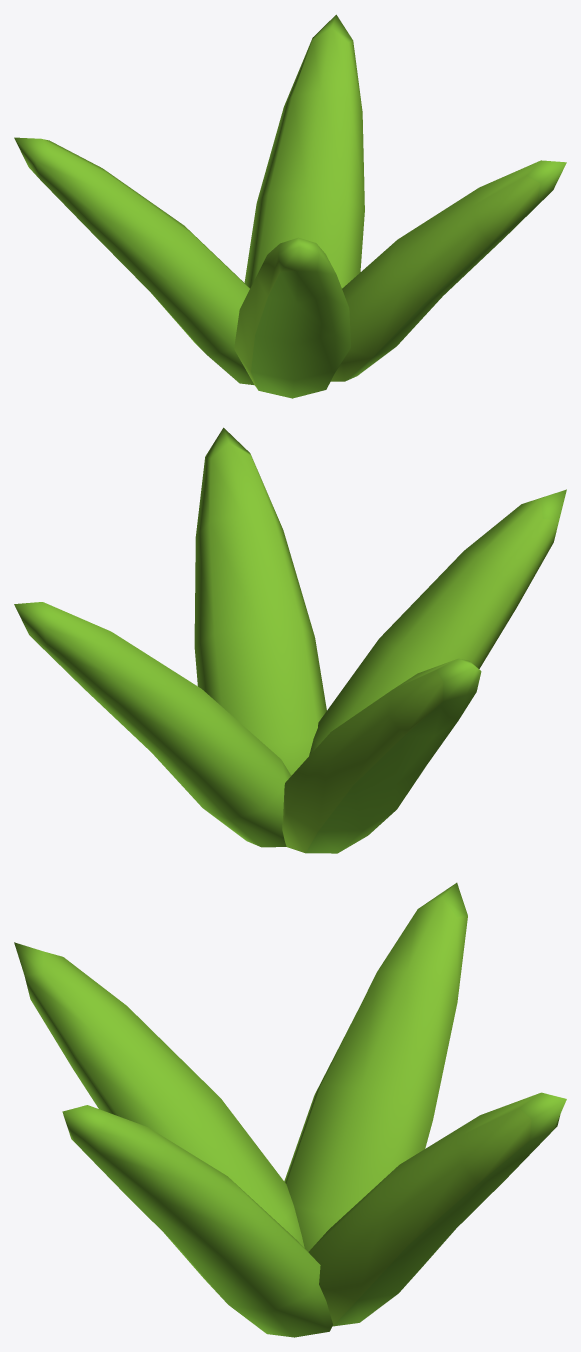
The model's file is Cube_Grass_B.fbx.
The picture shows the model from 3 angles, top to bottom: view 1: azimuth 30°, elevation 25°; view 2: azimuth 150°, elevation 25°; view 3: azimuth 270°, elevation 25°; orthographic projection. The views are drawn at different scales.
Parts seen in each view (by area): view 1: Cube.077; view 2: Cube.077; view 3: Cube.077.
Part boxes in pixels (x1,y1,x2,y2): Cube.077: (14,14,566,398); Cube.077: (14,427,566,853); Cube.077: (14,882,566,1337).
Size of the model in its own units: 0.6917 by 0.4313 by 0.7022.
Materials: 1 (1 with a texture image).
